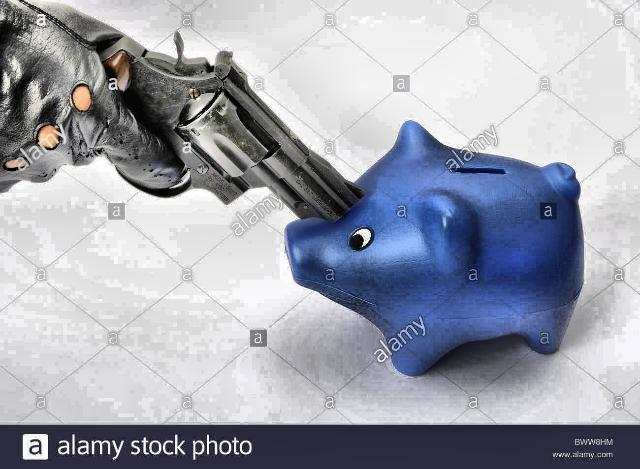pistol: (44, 31, 372, 229)
